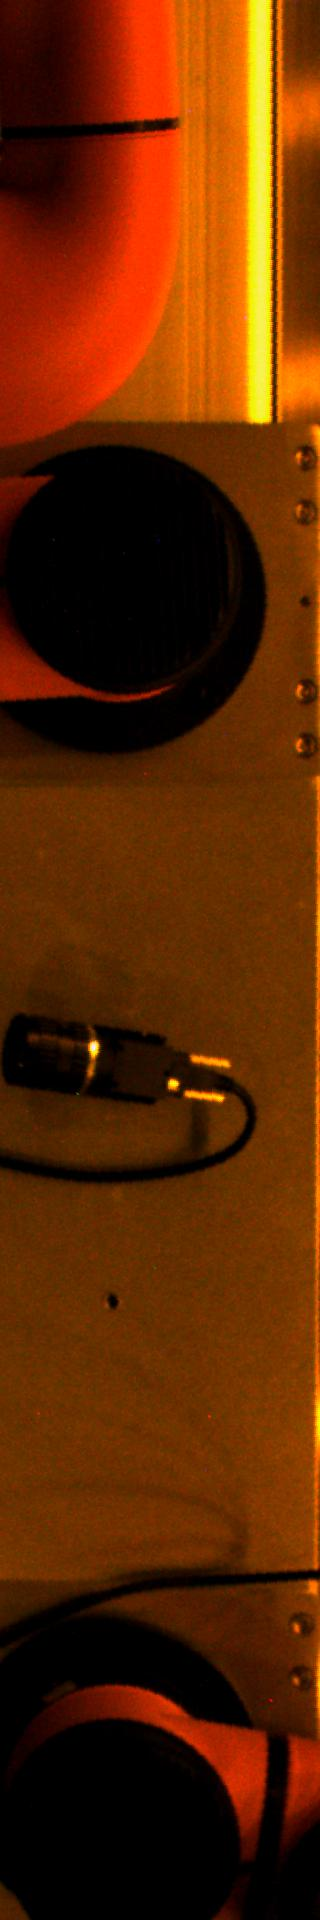keyPoint_2: (97, 1284, 128, 1315)
